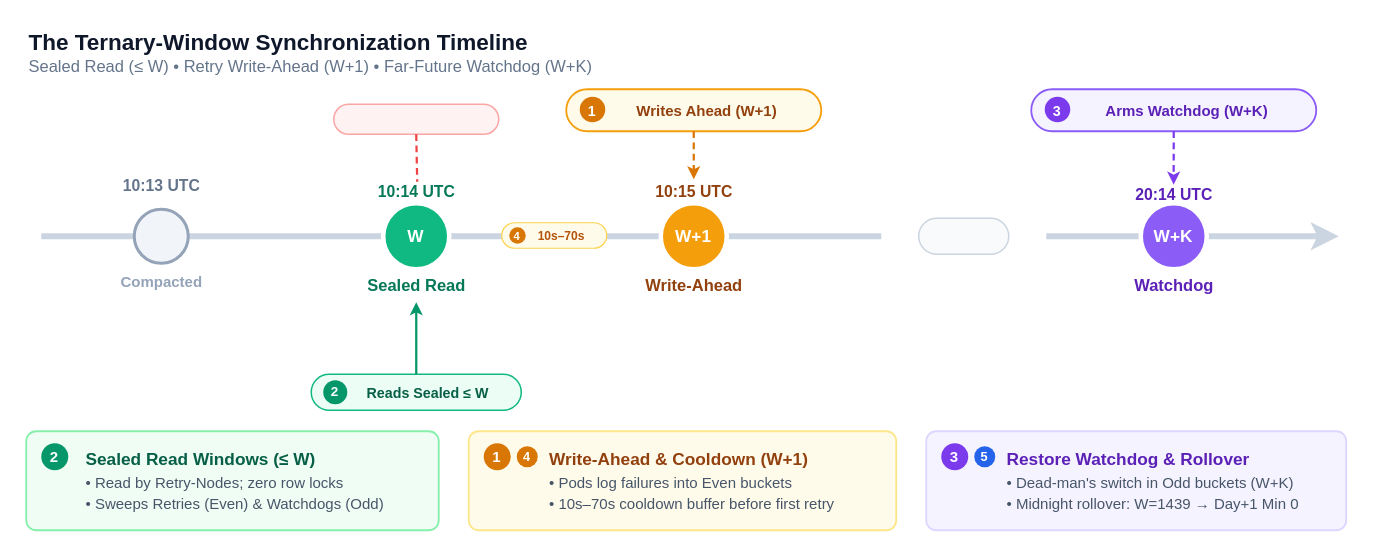
This 1380x557 diagram has some shape labels left out. Each missing label, with the centre of its shape:
+10h Gap: the point at 963,235
T_now = 10:14 UTC: the point at 415,118
W-1: the point at 160,235
